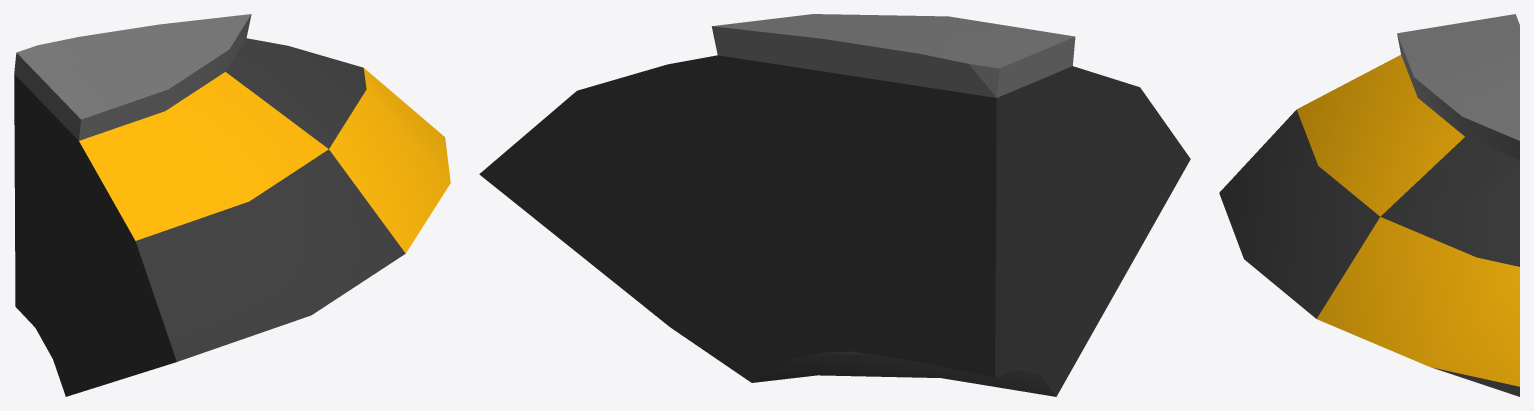
File: kea1d.obj
The picture shows the model from 3 angles, left to right: view 1: azimuth 30°, elevation 25°; view 2: azimuth 150°, elevation 25°; view 3: azimuth 270°, elevation 25°; orthographic projection. The views are drawn at different scales.
Parts seen in each view (by area): view 1: Cube2; view 2: Cube2; view 3: Cube2.
Part boxes in pixels (x1=…): Cube2: x1=14, y1=14, x2=450, y2=396; Cube2: x1=479, y1=14, x2=1190, y2=396; Cube2: x1=1219, y1=14, x2=1519, y2=396.
Size of the model in its own units: 1.93 by 1.33 by 1.26.
